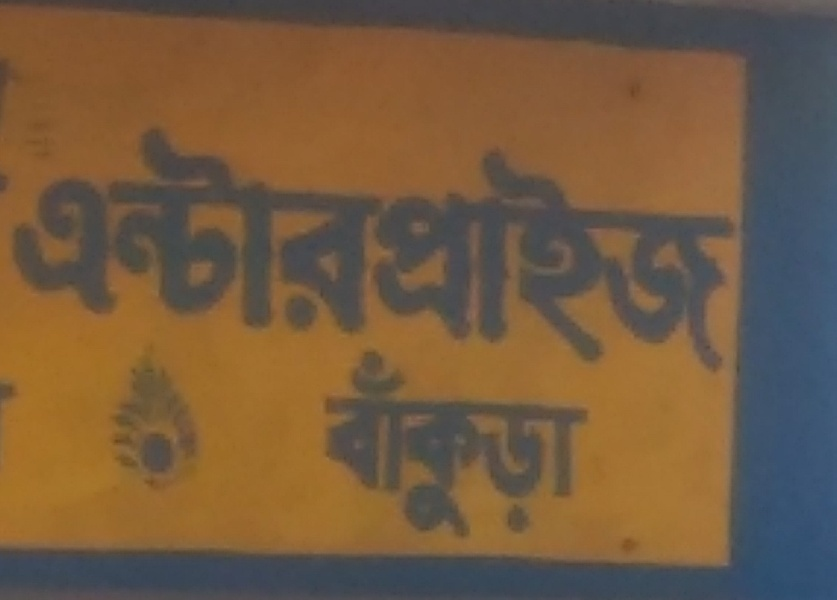text: (33, 112, 48, 385), (49, 112, 64, 385), (65, 112, 80, 385), (81, 112, 96, 385), (97, 112, 112, 385), (113, 112, 128, 385), (129, 112, 144, 385), (145, 112, 160, 385), (161, 112, 176, 385), (177, 112, 192, 385), (193, 112, 208, 385), (209, 112, 224, 385), (225, 112, 240, 385), (241, 112, 256, 385), (257, 112, 272, 385), (273, 112, 288, 385), (289, 112, 304, 385), (305, 112, 320, 385), (321, 112, 336, 385), (337, 112, 352, 385), (353, 112, 368, 385), (369, 112, 384, 385), (385, 112, 400, 385), (401, 112, 416, 385), (417, 112, 432, 385), (433, 112, 448, 385), (449, 112, 464, 385), (465, 112, 480, 385), (481, 112, 496, 385), (497, 112, 512, 385), (513, 112, 528, 385), (529, 112, 544, 385), (545, 112, 560, 385), (561, 112, 576, 385), (577, 112, 592, 385), (593, 112, 608, 385), (609, 112, 624, 385), (625, 112, 640, 385), (641, 112, 656, 385), (657, 112, 672, 385), (673, 112, 688, 385), (689, 112, 704, 385), (705, 112, 720, 385), (721, 112, 736, 385), (337, 340, 352, 556), (353, 340, 368, 556), (369, 340, 384, 556), (385, 340, 400, 556), (401, 340, 416, 556), (417, 340, 432, 556), (433, 340, 448, 556), (449, 340, 464, 556), (465, 340, 480, 556), (481, 340, 496, 556), (497, 340, 512, 556), (513, 340, 528, 556), (529, 340, 544, 556), (545, 340, 560, 556), (561, 340, 576, 556), (577, 340, 592, 556), (23, 112, 32, 385), (329, 340, 336, 556), (737, 112, 740, 385), (593, 340, 596, 556)
